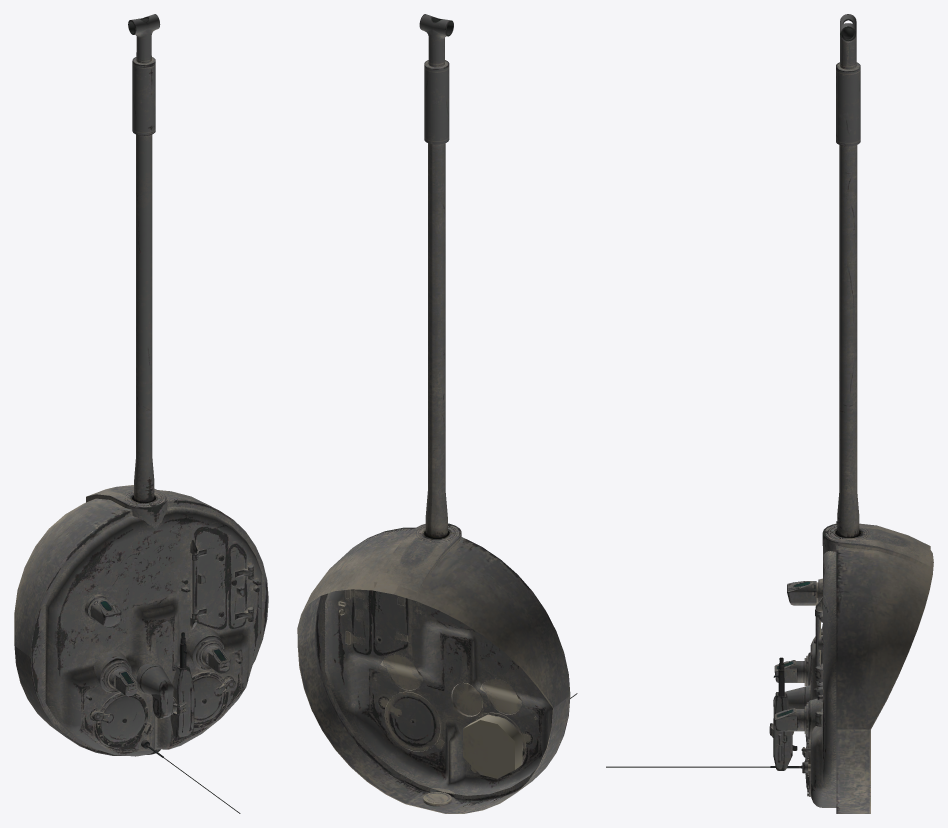
File: Gun_01.glb
3 views of the same model, side by side, from view 1: azimuth 30°, elevation 25°; view 2: azimuth 150°, elevation 25°; view 3: azimuth 270°, elevation 25° (orthographic). The views are drawn at different scales.
Visible parts, largest first — view 1: set_0_group_0; view 2: set_0_group_0; view 3: set_0_group_0.
Boxes of the visible parts, left/top/right/bottom form: set_0_group_0: left=14, top=14, right=268, bottom=813; set_0_group_0: left=297, top=14, right=577, bottom=813; set_0_group_0: left=606, top=14, right=933, bottom=813.
Size of the model in its own units: 2.64 by 7.75 by 2.95.
1 material, 1 textured.
